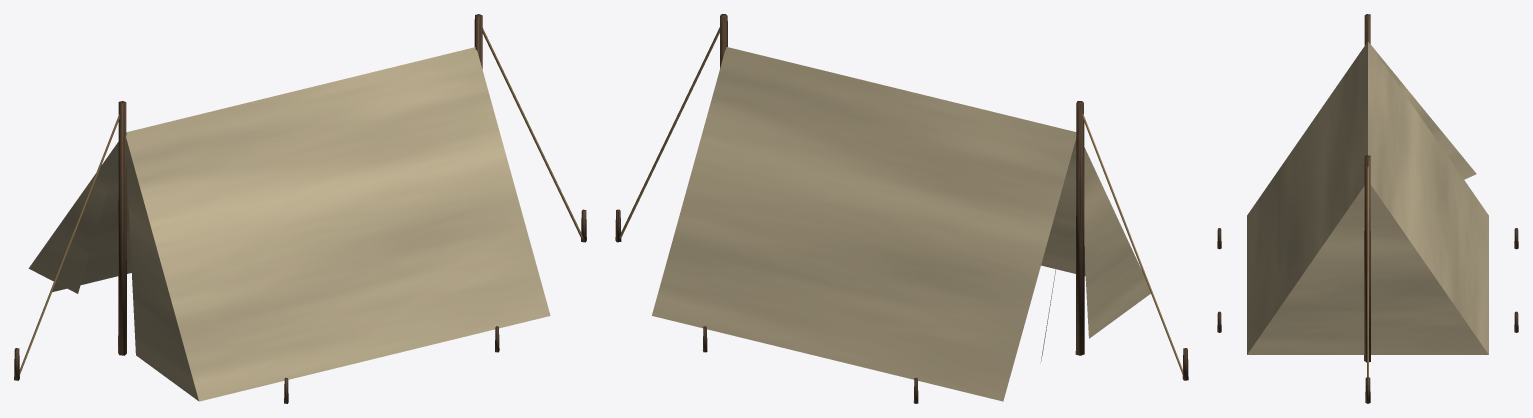
Rendered from Tent_Pilgrim_1.gltf.
The picture shows the model from 3 angles, left to right: view 1: azimuth 30°, elevation 25°; view 2: azimuth 150°, elevation 25°; view 3: azimuth 270°, elevation 25°; orthographic projection. The views are drawn at different scales.
Parts seen in each view (by area): view 1: Tent_Pilgrim_1; view 2: Tent_Pilgrim_1; view 3: Tent_Pilgrim_1.
Boxes of the visible parts, x1=… form: Tent_Pilgrim_1: x1=14, y1=14, x2=586, y2=403; Tent_Pilgrim_1: x1=615, y1=14, x2=1188, y2=403; Tent_Pilgrim_1: x1=1217, y1=14, x2=1518, y2=403.
Size of the model in its own units: 7.34 by 3.08 by 4.11.
3 materials, 3 textured.
